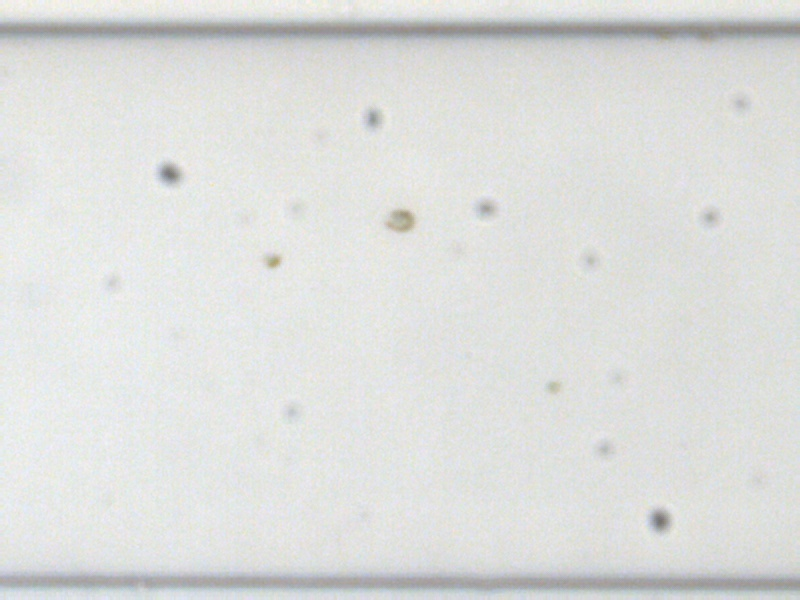Chlorella: (263, 252, 281, 269), (543, 377, 560, 393)
Dunaliella salina: (382, 207, 413, 232)
